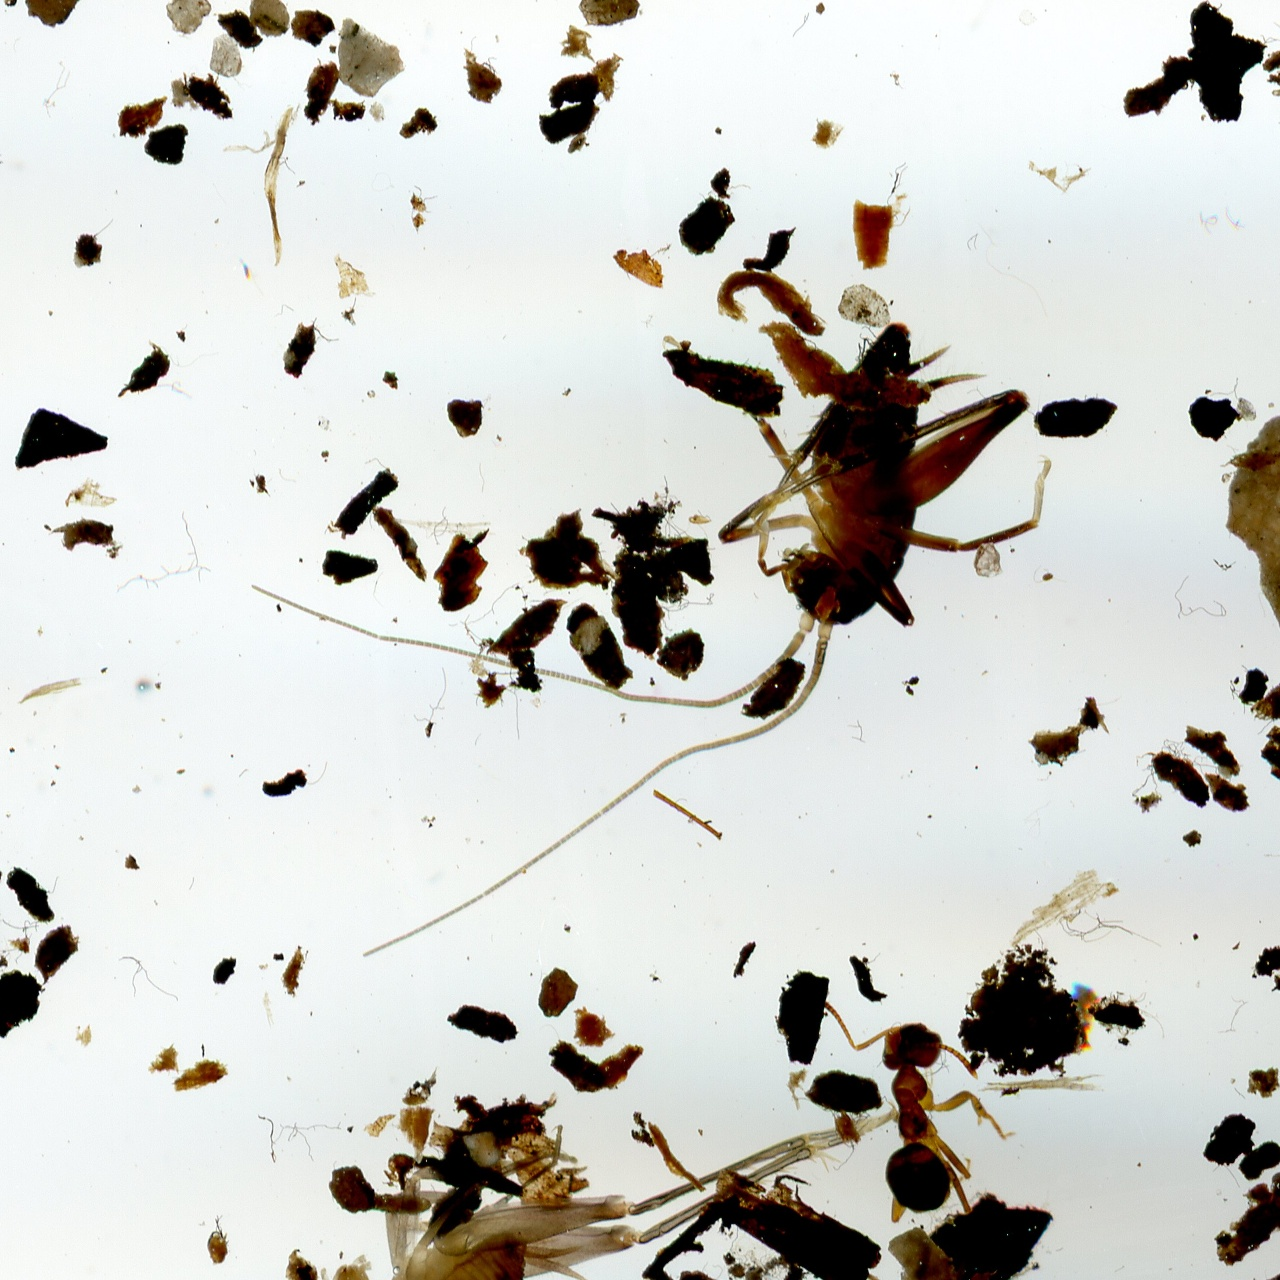arthropod: (175, 216, 1135, 982), (0, 820, 1143, 1280), (822, 998, 1020, 1228)
